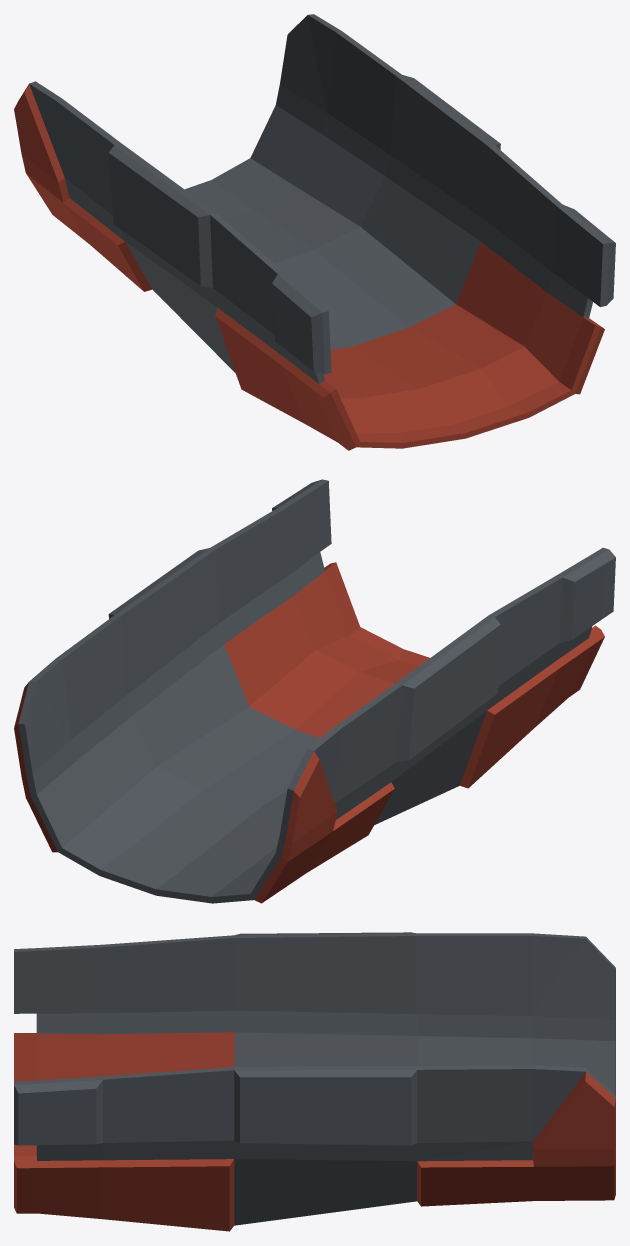
The model's file is Dropship_04_Bottom_Frame_Red.fbx.
3 views of the same model, one above another, from view 1: azimuth 30°, elevation 25°; view 2: azimuth 150°, elevation 25°; view 3: azimuth 270°, elevation 25° (orthographic). The views are drawn at different scales.
Parts seen in each view (by area): view 1: Dropship_04_Bottom_Frame_Red; view 2: Dropship_04_Bottom_Frame_Red; view 3: Dropship_04_Bottom_Frame_Red.
Boxes of the visible parts, x1,y1,x2,y2 form: Dropship_04_Bottom_Frame_Red: (14, 14, 615, 450); Dropship_04_Bottom_Frame_Red: (14, 479, 615, 903); Dropship_04_Bottom_Frame_Red: (14, 932, 615, 1231).
Size of the model in its own units: 421 by 260 by 739.
1 material, 1 textured.
